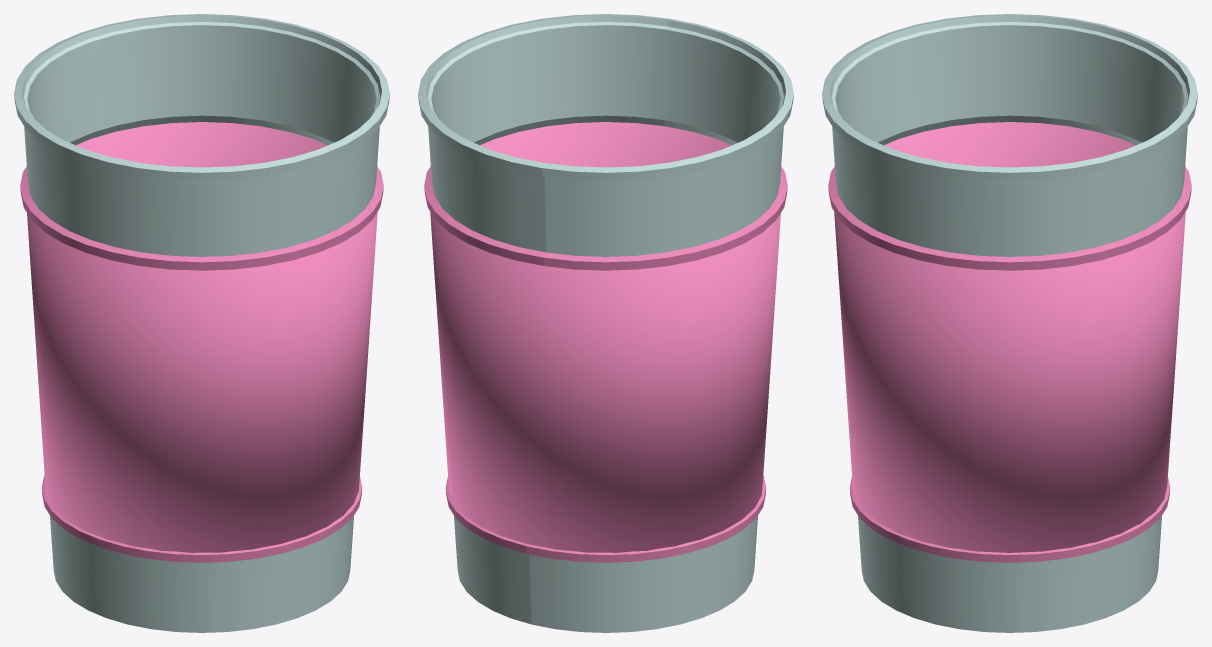
The picture shows the model from 3 angles, left to right: view 1: azimuth 30°, elevation 25°; view 2: azimuth 150°, elevation 25°; view 3: azimuth 270°, elevation 25°; orthographic projection.
Parts seen in each view (by area): view 1: cup_for_pen; view 2: cup_for_pen; view 3: cup_for_pen.
Part boxes in pixels (box(x1,y1,x2,y2)): cup_for_pen: box(14, 14, 389, 632); cup_for_pen: box(418, 14, 793, 632); cup_for_pen: box(822, 14, 1197, 632).
Size of the model in its own units: 686 by 964 by 686.
